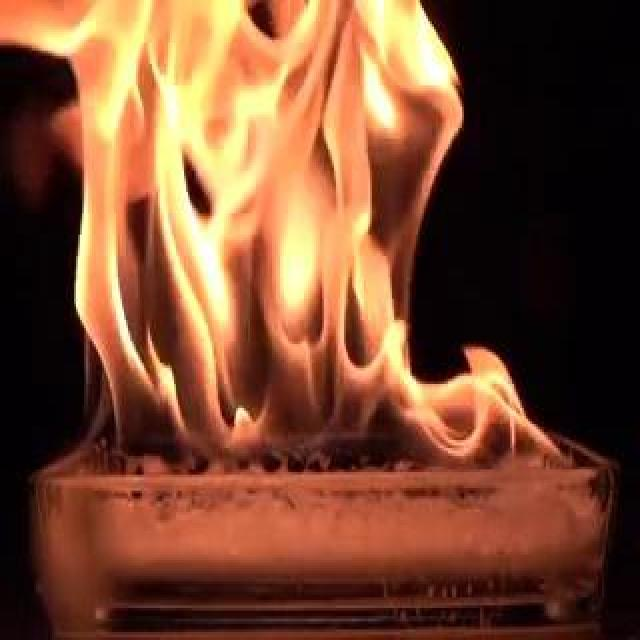Fire: (10, 2, 574, 482)
